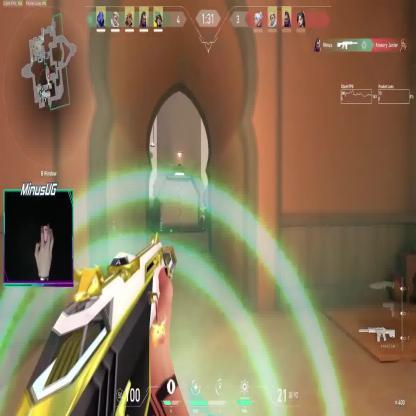enemy: (199, 196, 208, 230)
enemy_head: (202, 198, 206, 206)
